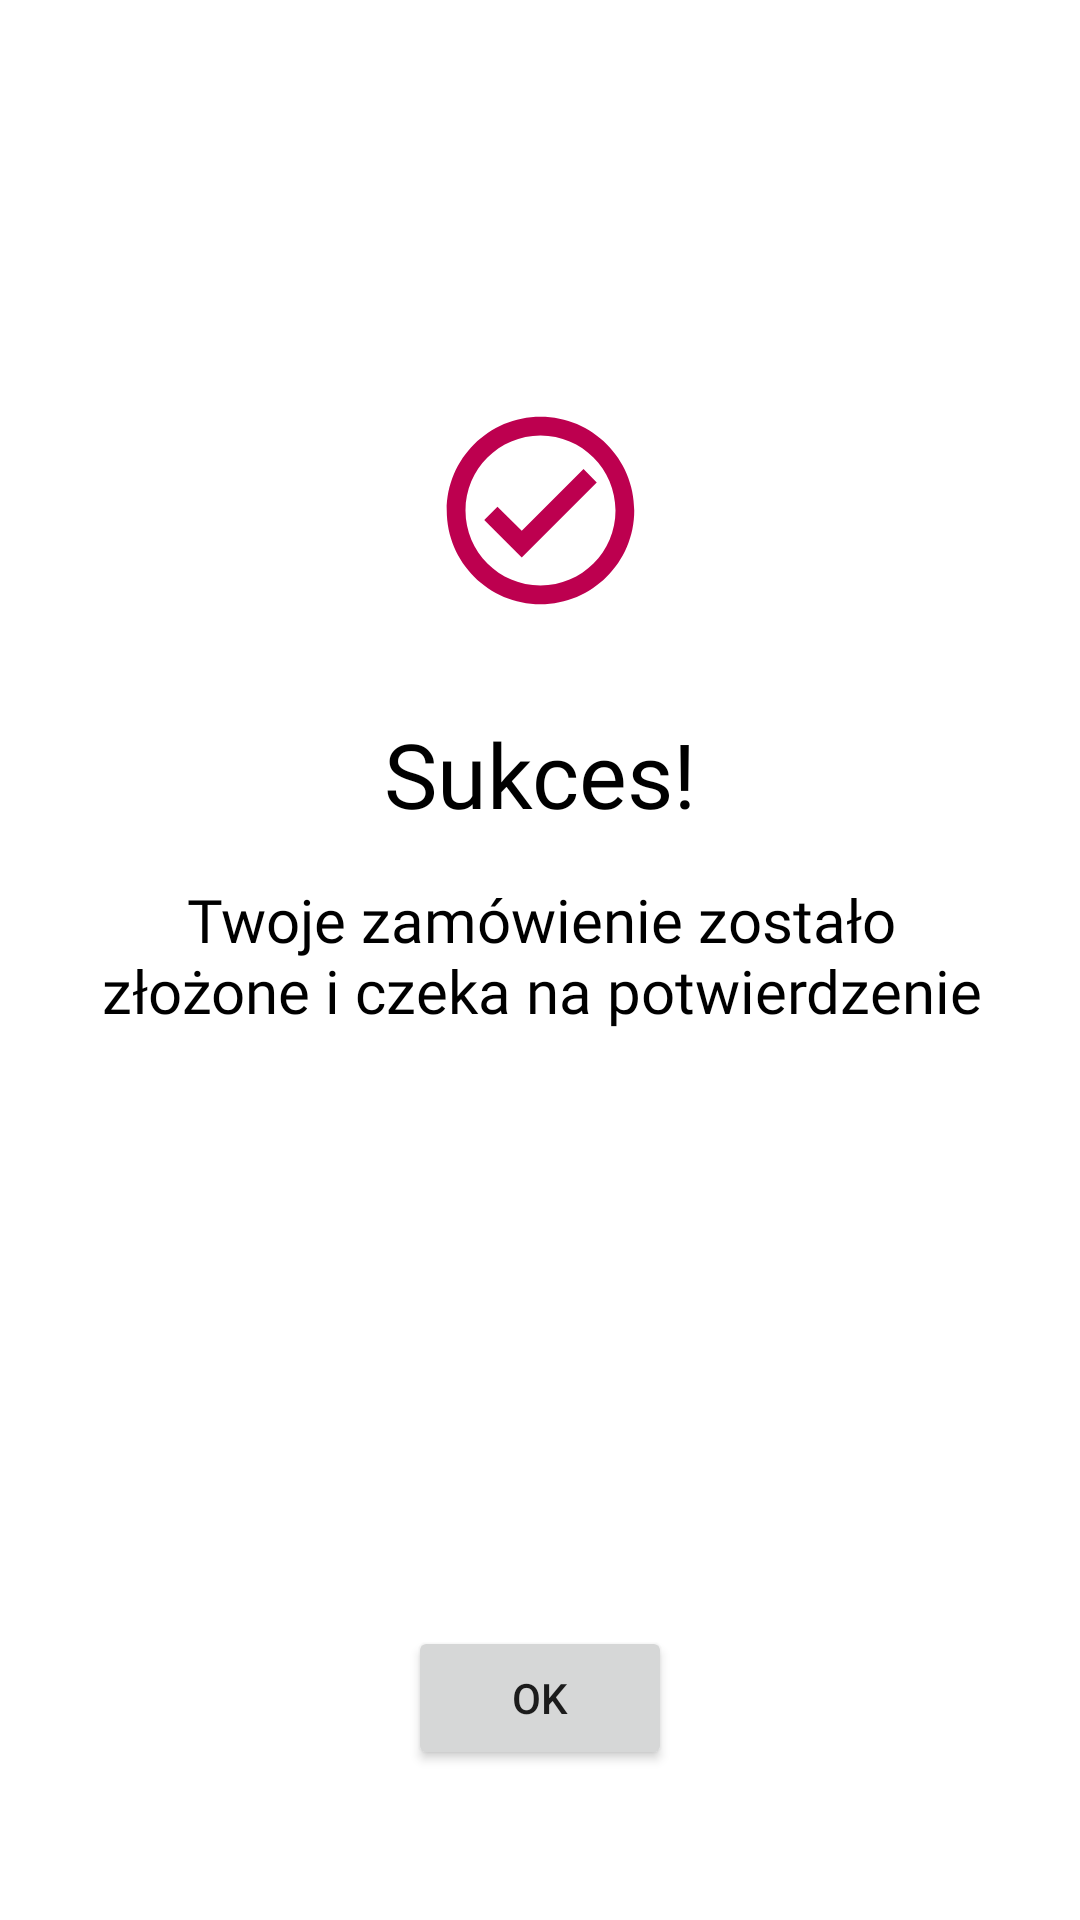

Point at icon controls on the screen. Image size 1080 × 1920, points as (x=x, y=y).
success: (x=540, y=510)
